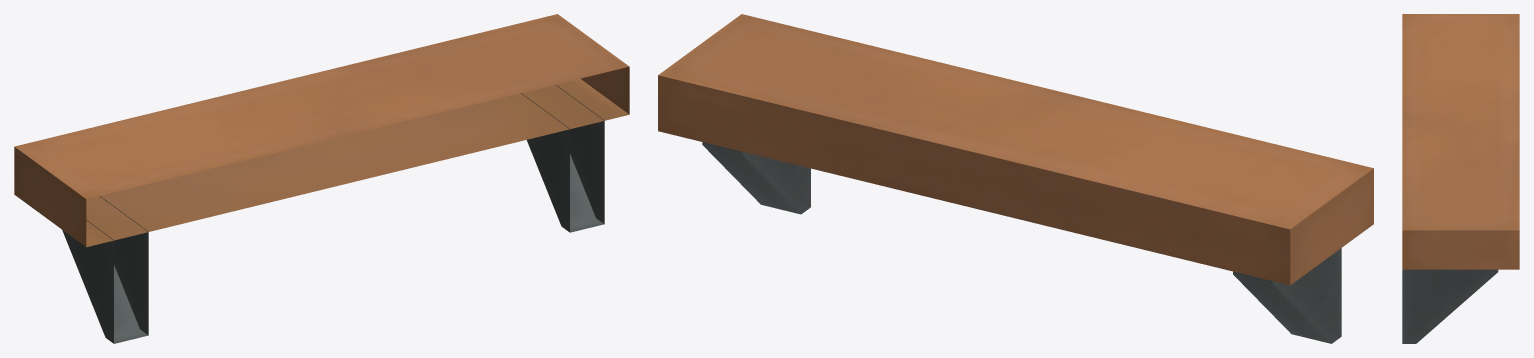
The model's file is Pfb_Indoors_Study_Shelf__5.fbx.
3 views of the same model, side by side, from view 1: azimuth 30°, elevation 25°; view 2: azimuth 150°, elevation 25°; view 3: azimuth 270°, elevation 25° (orthographic). The views are drawn at different scales.
Visible parts, largest first — view 1: Mat_Indoors_Study_01_1; view 2: Mat_Indoors_Study_01_1; view 3: Mat_Indoors_Study_01_1.
Part boxes in pixels (<box>): Mat_Indoors_Study_01_1: <box>14,14,629,343</box>; Mat_Indoors_Study_01_1: <box>658,14,1373,343</box>; Mat_Indoors_Study_01_1: <box>1402,14,1519,343</box>.
Bounding box in the file's own units: 1.72 × 0.4586 × 0.3943.
Materials: 1 (1 with a texture image).
